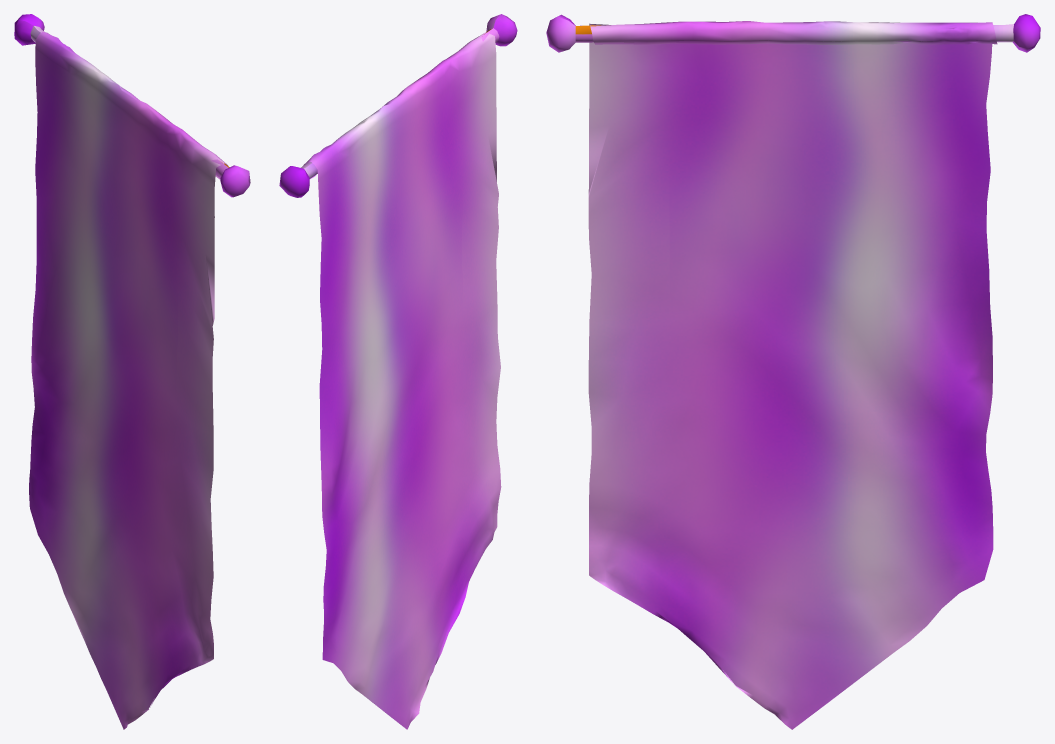
File: SM_Banner_Variant_02.fbx
The picture shows the model from 3 angles, left to right: view 1: azimuth 30°, elevation 25°; view 2: azimuth 150°, elevation 25°; view 3: azimuth 270°, elevation 25°; orthographic projection. The views are drawn at different scales.
Visible parts, largest first — view 1: SM_Banner_Variant_02a_LOD0; view 2: SM_Banner_Variant_02a_LOD0; view 3: SM_Banner_Variant_02a_LOD0.
Boxes of the visible parts, bbox=[...] form: SM_Banner_Variant_02a_LOD0: bbox=[14, 14, 250, 729]; SM_Banner_Variant_02a_LOD0: bbox=[279, 14, 517, 729]; SM_Banner_Variant_02a_LOD0: bbox=[546, 14, 1040, 729].
Size of the model in its own units: 33.77 by 408 by 655.
